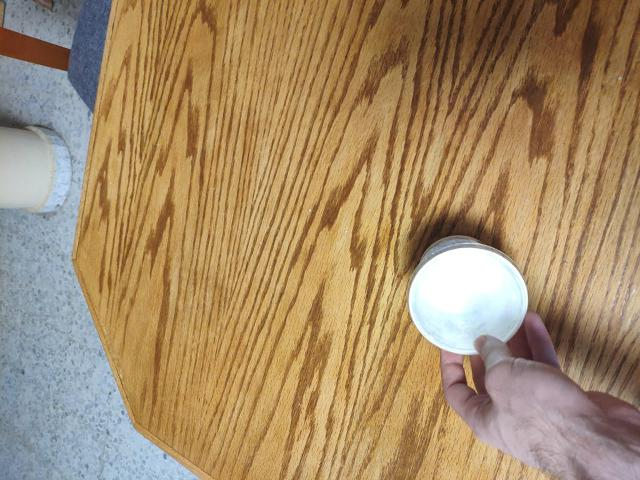cotage: (387, 241, 527, 359)
